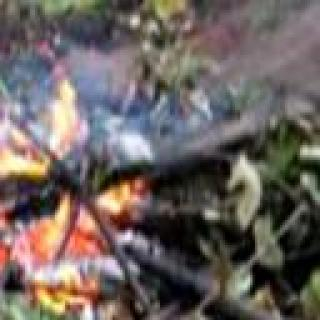fire: (0, 50, 143, 320)
